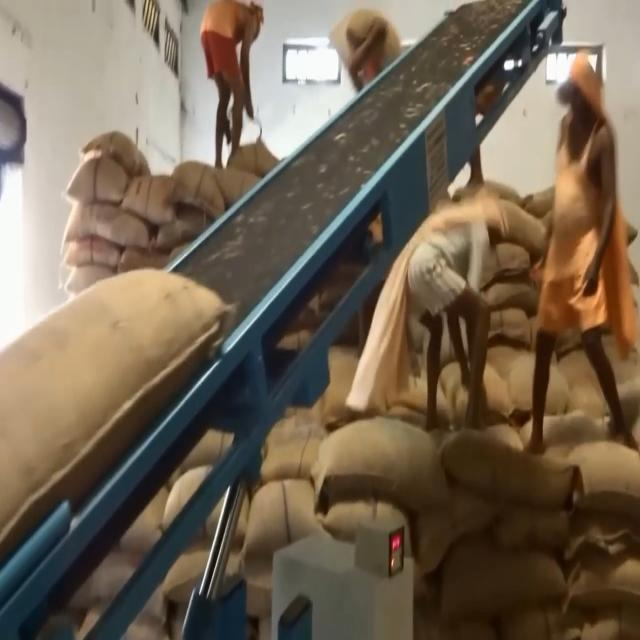gunny_bag: (0, 257, 225, 545)
